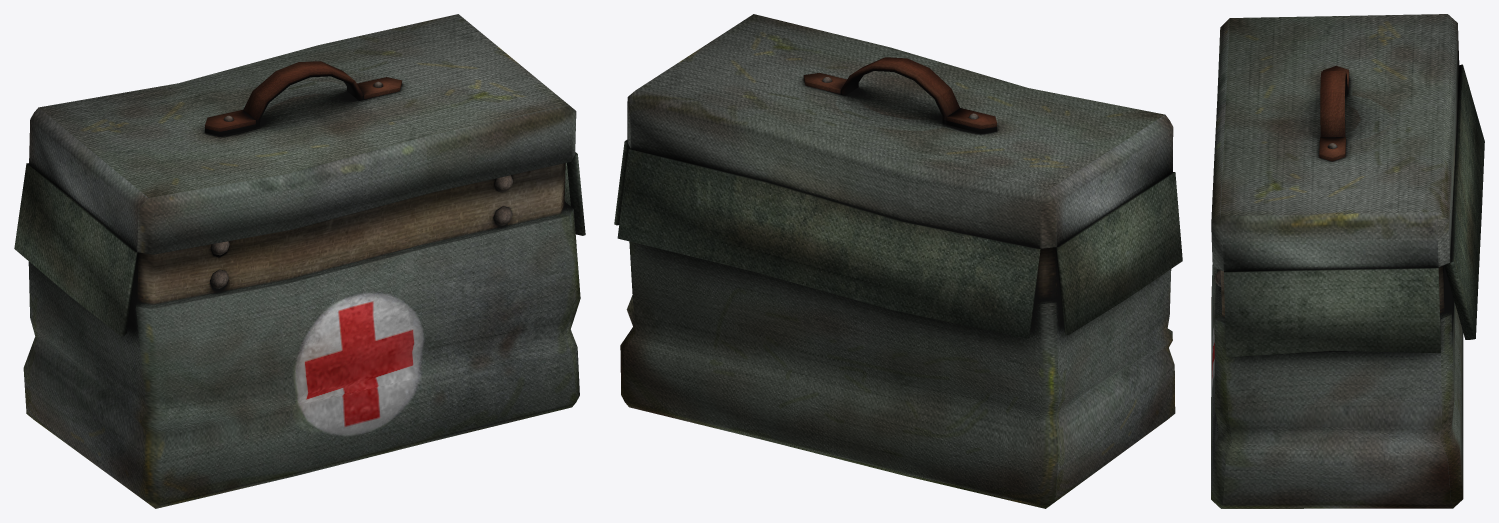
The model's file is MedKit_mk2.obj.
The picture shows the model from 3 angles, left to right: view 1: azimuth 30°, elevation 25°; view 2: azimuth 150°, elevation 25°; view 3: azimuth 270°, elevation 25°; orthographic projection. The views are drawn at different scales.
Parts seen in each view (by area): view 1: HP1_Cube; view 2: HP1_Cube; view 3: HP1_Cube.
Boxes of the visible parts, x1,y1,x2,y2 form: HP1_Cube: (14, 14, 585, 508); HP1_Cube: (614, 14, 1182, 508); HP1_Cube: (1211, 14, 1484, 508).
Bounding box in the file's own units: 1.1 × 0.7946 × 0.5886.
